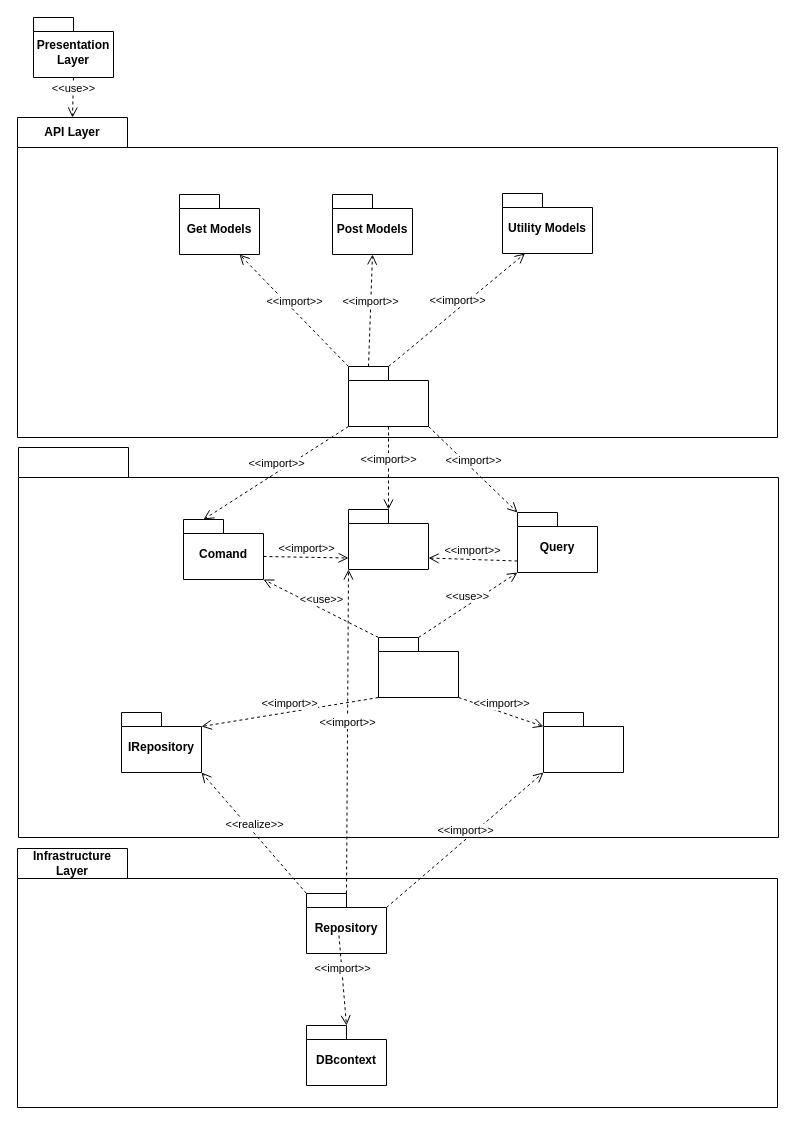
This 796x1125 diagram has some shape labels left out. Each missing label, with the box of its shape:
Controller: (348, 366, 428, 426)
Core Layer: (18, 446, 778, 838)
Entity: (348, 508, 428, 570)
Handlers: (378, 636, 458, 698)
Model: (542, 712, 624, 772)
